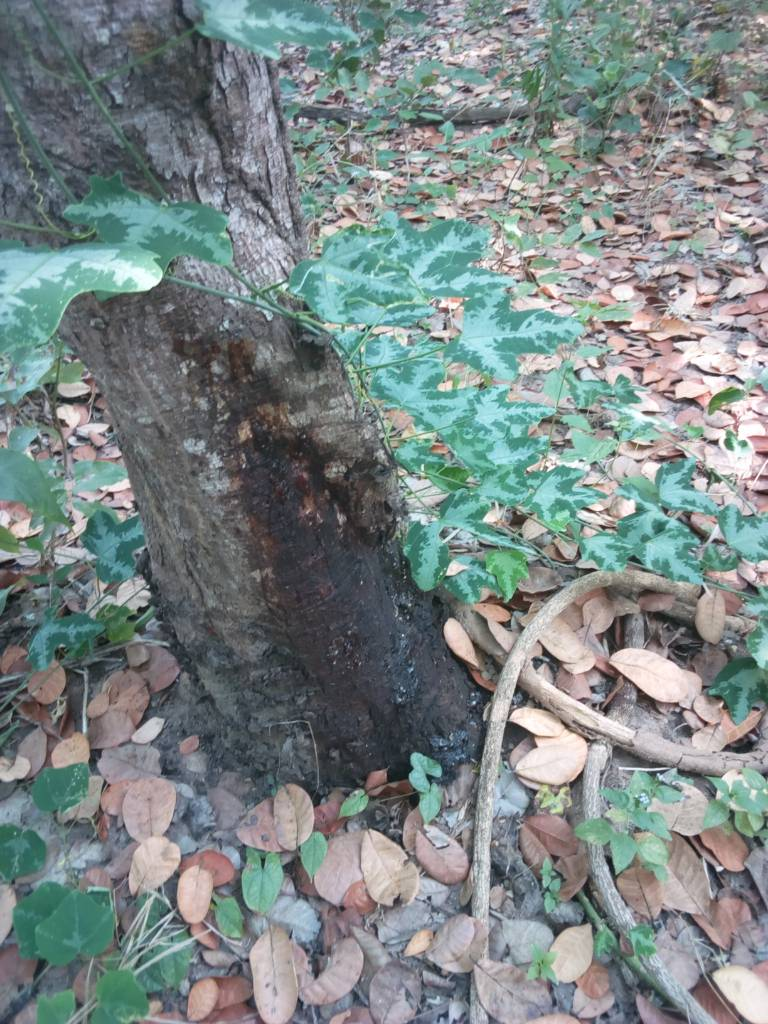Gommose: (244, 414, 475, 769)
